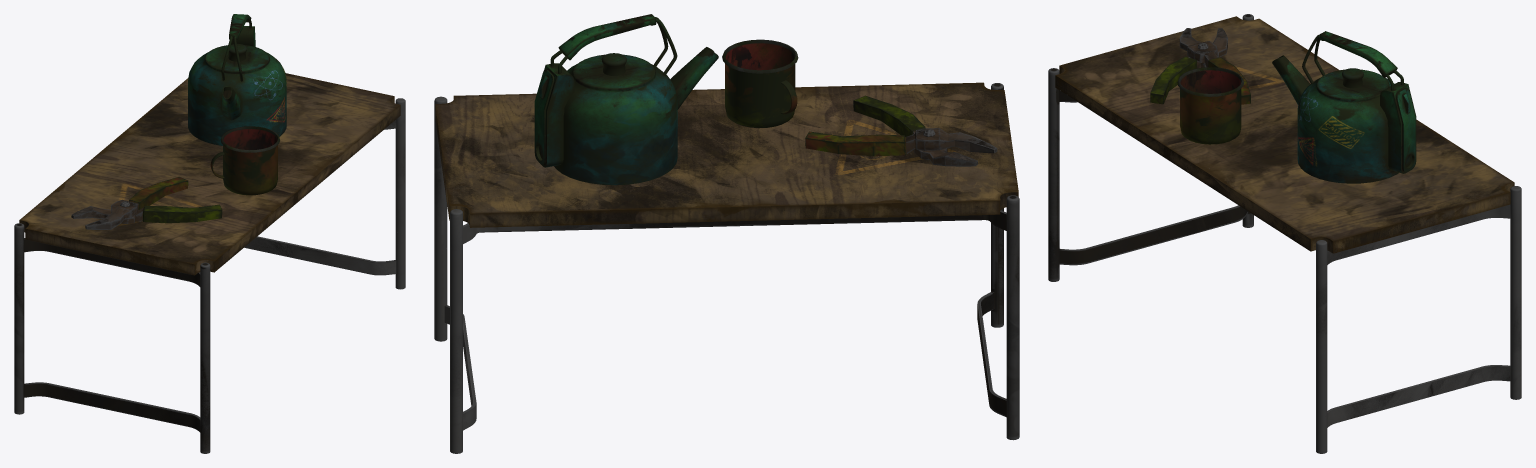
The model's file is Pilberts_Table_Set.fbx.
3 views of the same model, side by side, from view 1: azimuth 30°, elevation 25°; view 2: azimuth 150°, elevation 25°; view 3: azimuth 270°, elevation 25° (orthographic). The views are drawn at different scales.
Parts seen in each view (by area): view 1: Table, mATC_DecoiKettel, mATC_DecoCupDirty, Tong.small; view 2: Table, mATC_DecoiKettel, mATC_DecoCupDirty, Tong.small; view 3: Table, mATC_DecoiKettel, mATC_DecoCupDirty, Tong.small.
Part boxes in pixels (x1,y1,x2,y2): Table: (14,73,405,453); mATC_DecoiKettel: (188,14,286,145); mATC_DecoCupDirty: (210,126,279,195); Tong.small: (71,176,222,229); Table: (434,82,1019,453); mATC_DecoiKettel: (534,14,718,185); mATC_DecoCupDirty: (722,39,798,128); Tong.small: (805,95,997,166); Table: (1048,14,1521,453); mATC_DecoiKettel: (1272,31,1416,183); mATC_DecoCupDirty: (1177,67,1243,144); Tong.small: (1150,28,1250,104).
Bounding box in the file's own units: 93.82 × 62.21 × 81.35.
